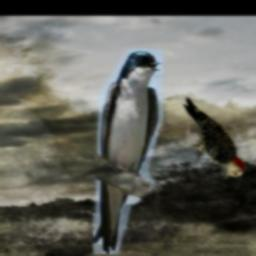Swallow: (92, 50, 162, 255)
Woodpecker: (184, 97, 248, 180)
